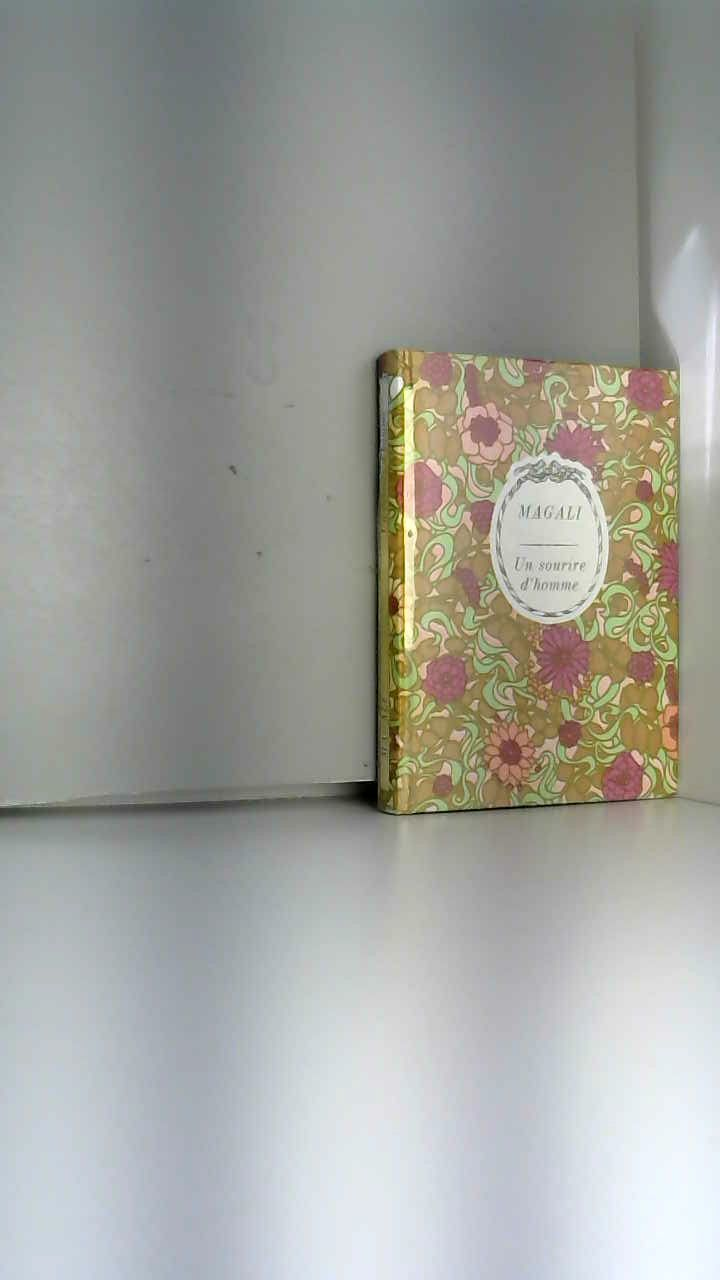book: (340, 320, 717, 839)
